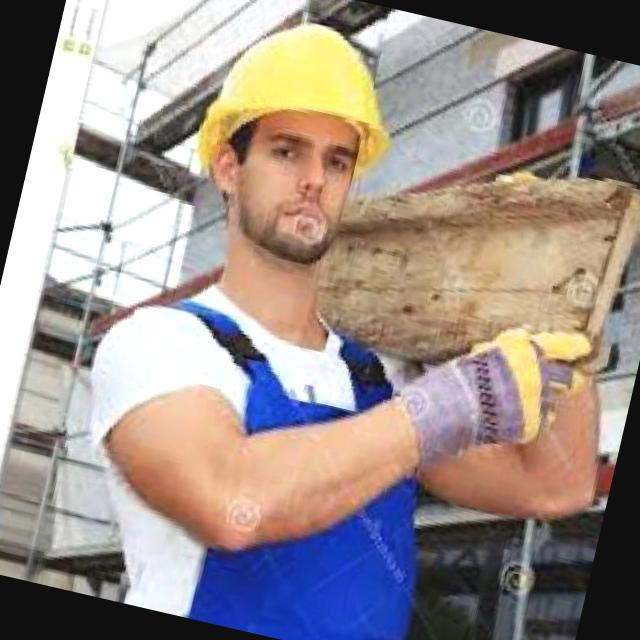helmet: (189, 0, 412, 217)
